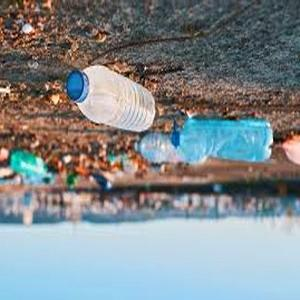Plastic: (65, 63, 155, 132), (167, 116, 277, 164)
